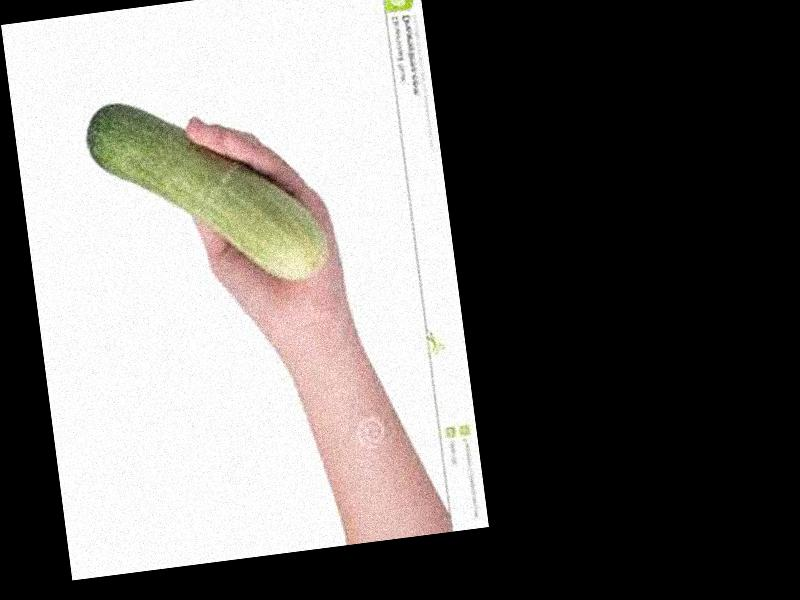Cucumber: (84, 82, 329, 303)
